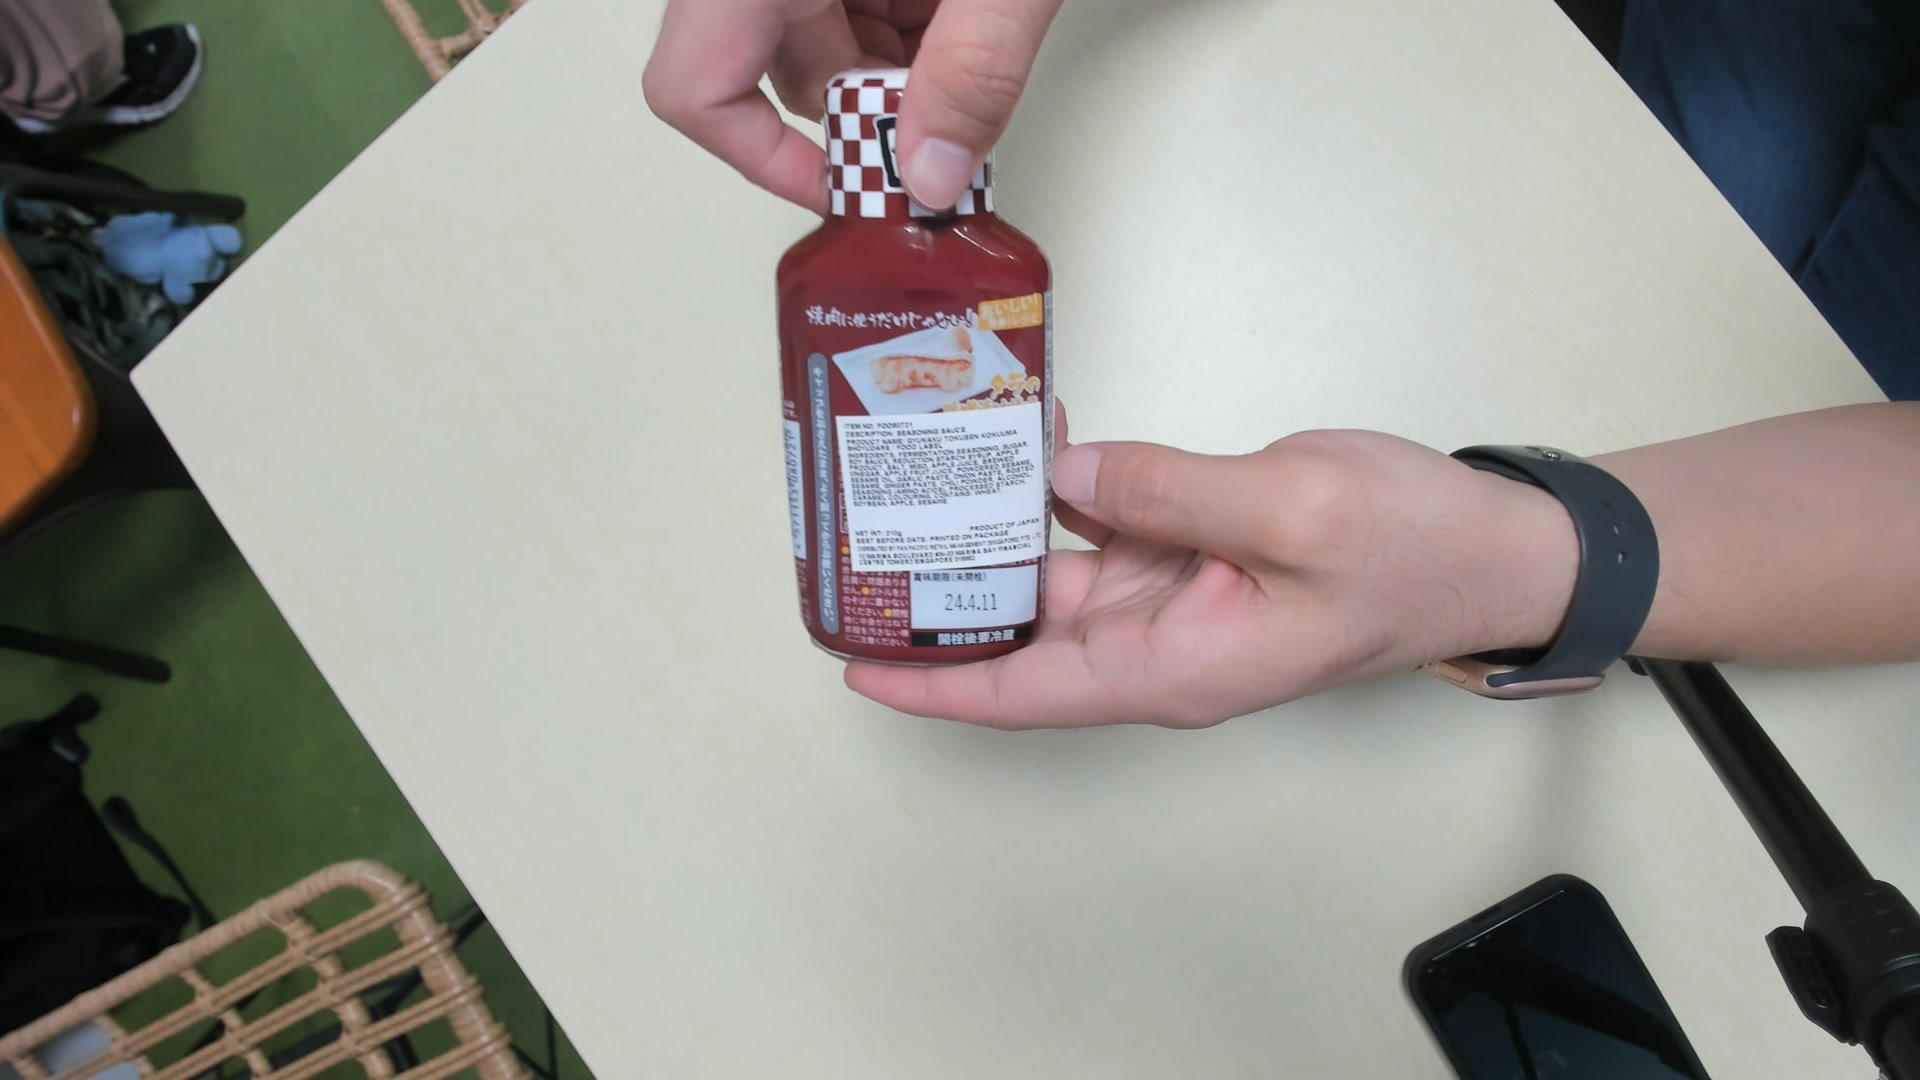OtherSauceDressing_200-299g_NonHalal_NonHealthy: (777, 65, 1048, 669)
